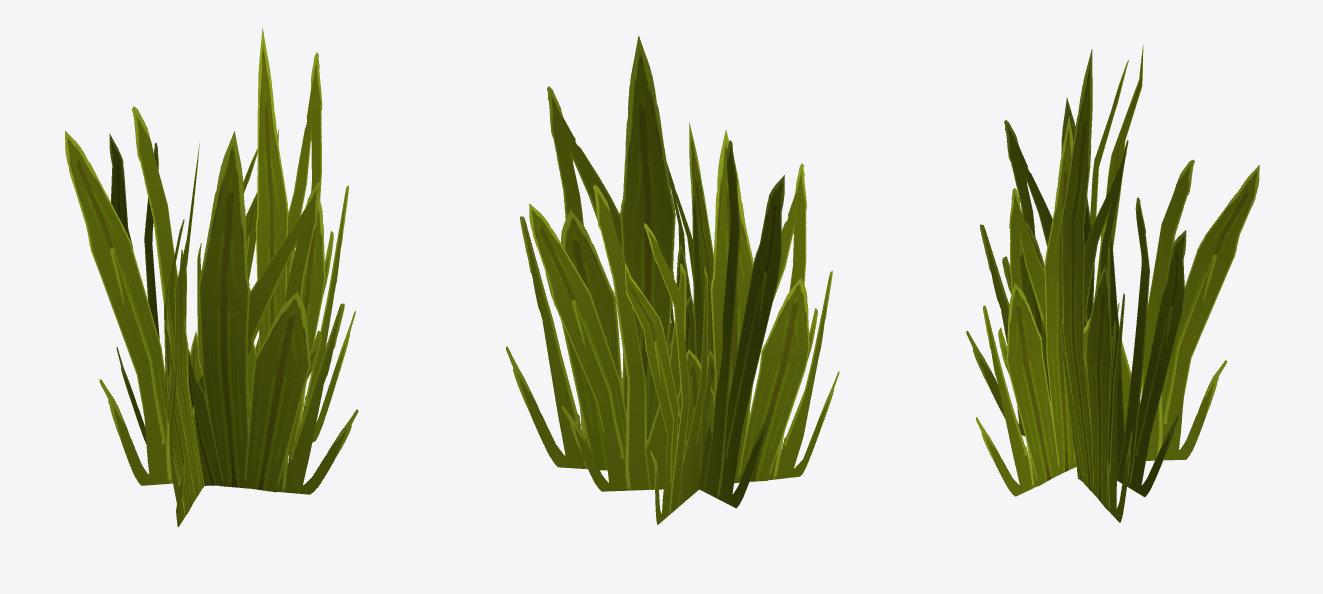
File: Flax_Bush_1.fbx
3 renders of one model, left to right at view 1: azimuth 30°, elevation 25°; view 2: azimuth 150°, elevation 25°; view 3: azimuth 270°, elevation 25°, orthographic.
Parts seen in each view (by area): view 1: Flax_Bush_1; view 2: Flax_Bush_1; view 3: Flax_Bush_1.
Part boxes in pixels (x1,y1,x2,y2): Flax_Bush_1: (65, 28, 358, 527); Flax_Bush_1: (506, 36, 839, 524); Flax_Bush_1: (966, 45, 1259, 522).
Size of the model in its own units: 3.92 by 4.61 by 3.53.
